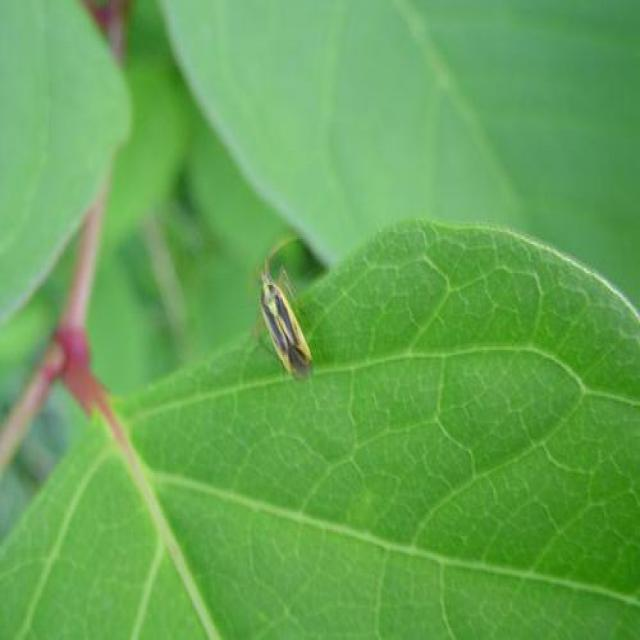Miridae-Adult-: (249, 241, 322, 389)
